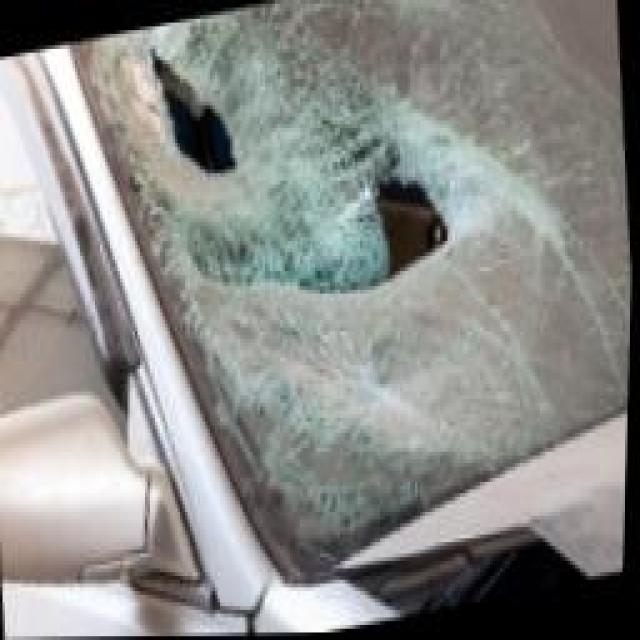Windshield: (135, 0, 639, 592)
